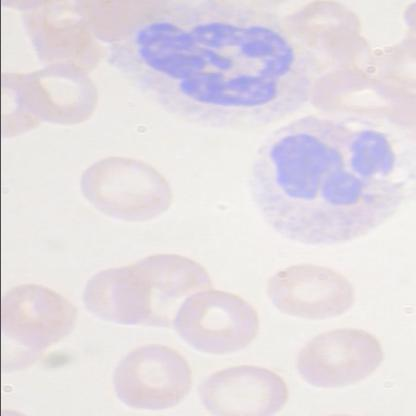RBC: (253, 248, 359, 328), (286, 314, 392, 393), (74, 152, 180, 230), (102, 342, 192, 416), (170, 284, 256, 354), (69, 262, 155, 332), (15, 62, 100, 132), (190, 361, 297, 415), (0, 280, 78, 351)
WBC: (101, 0, 327, 135), (241, 114, 415, 260)
